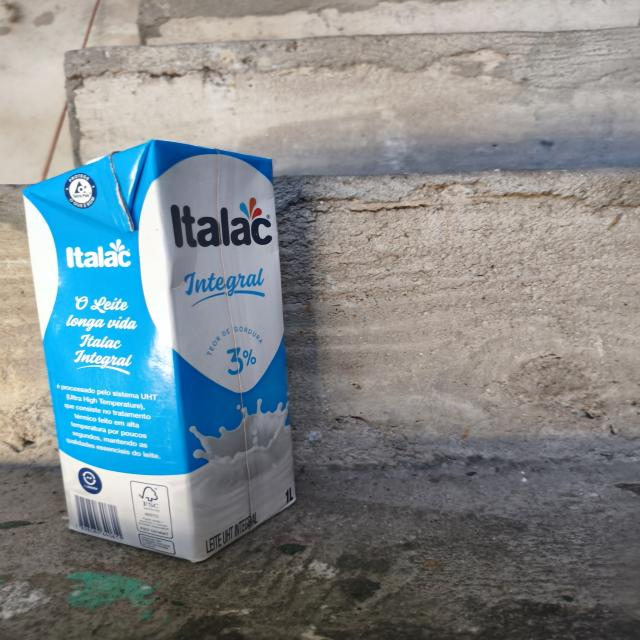Caixa de Leite: (12, 136, 331, 564)
